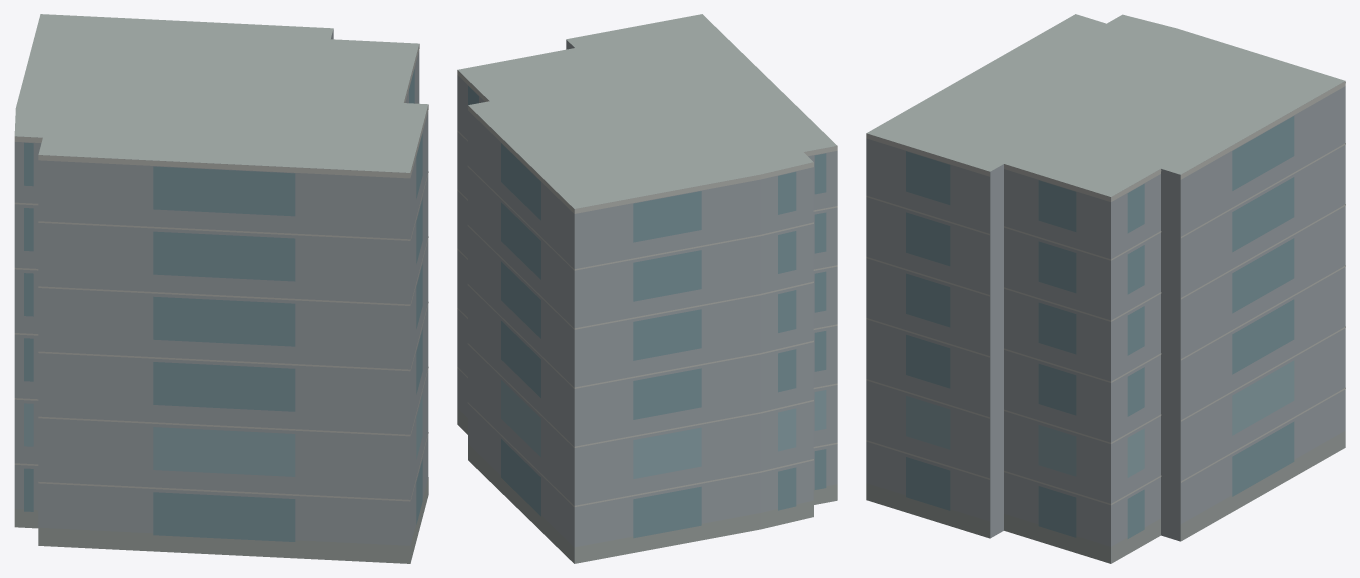
The model's file is survey-upis-32640613.glb.
3 views of the same model, side by side, from view 1: azimuth 30°, elevation 25°; view 2: azimuth 150°, elevation 25°; view 3: azimuth 270°, elevation 25° (orthographic). The views are drawn at different scales.
Parts seen in each view (by area): view 1: survey-upis-32640613.tmp; view 2: survey-upis-32640613.tmp; view 3: survey-upis-32640613.tmp.
Boxes of the visible parts, bbox=[...] form: survey-upis-32640613.tmp: bbox=[14, 14, 428, 563]; survey-upis-32640613.tmp: bbox=[457, 14, 837, 563]; survey-upis-32640613.tmp: bbox=[866, 14, 1345, 563].
Size of the model in its own units: 18.65 by 17.4 by 20.63.
